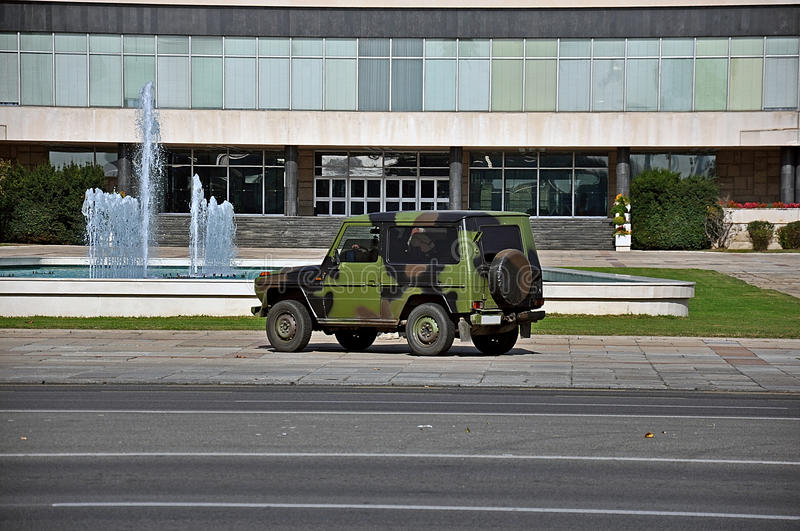jeep: (251, 212, 554, 357)
